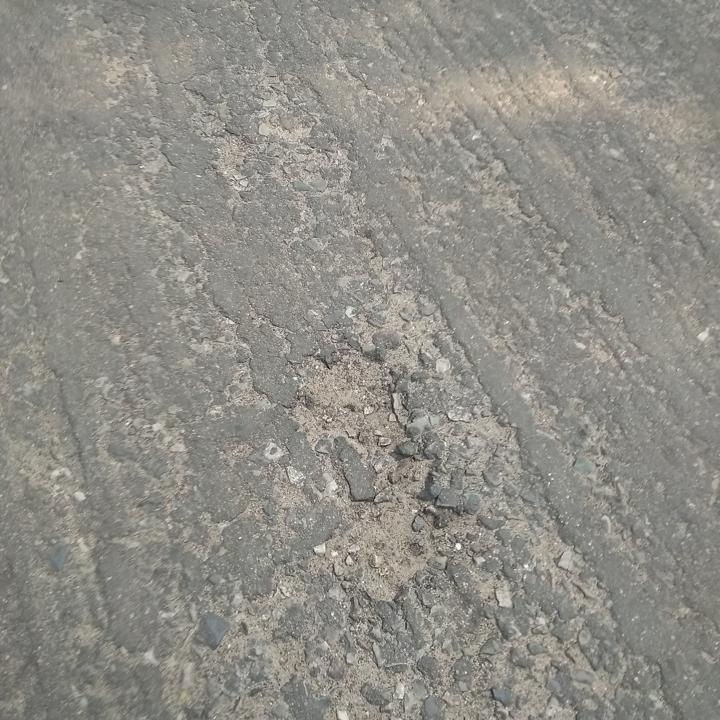pothole: (298, 346, 464, 601)
